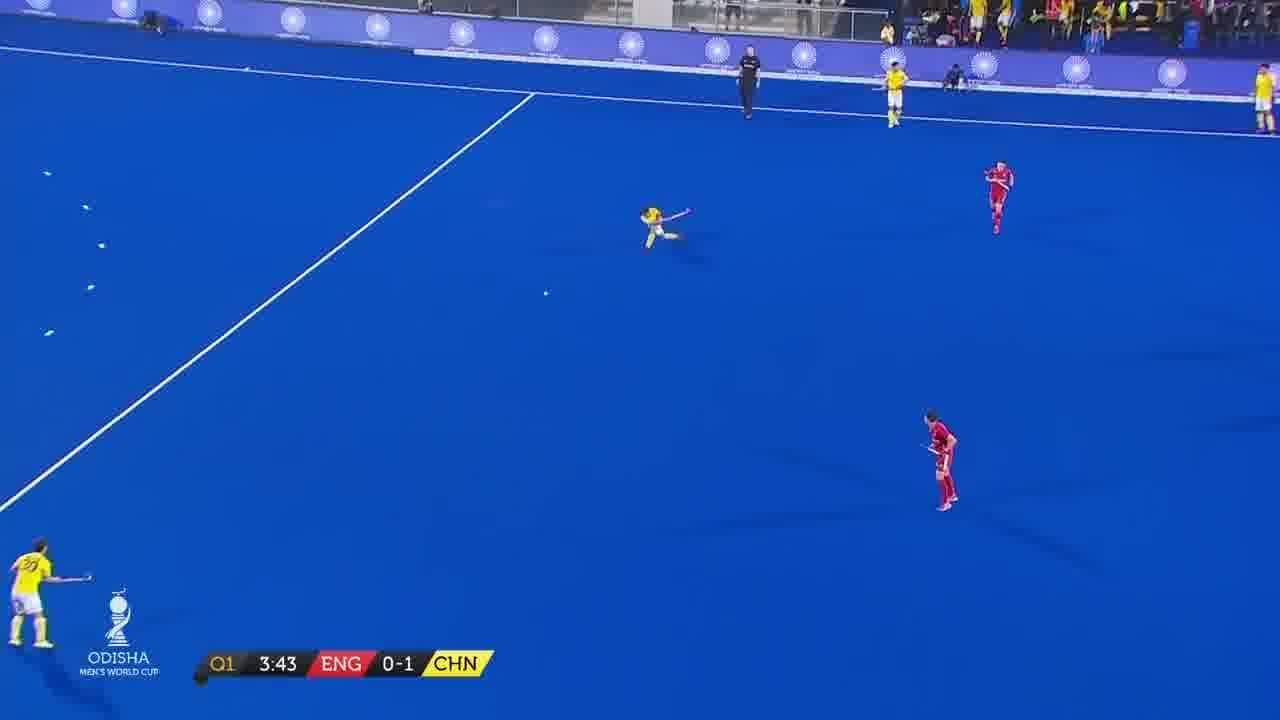ball: (539, 286, 557, 299)
